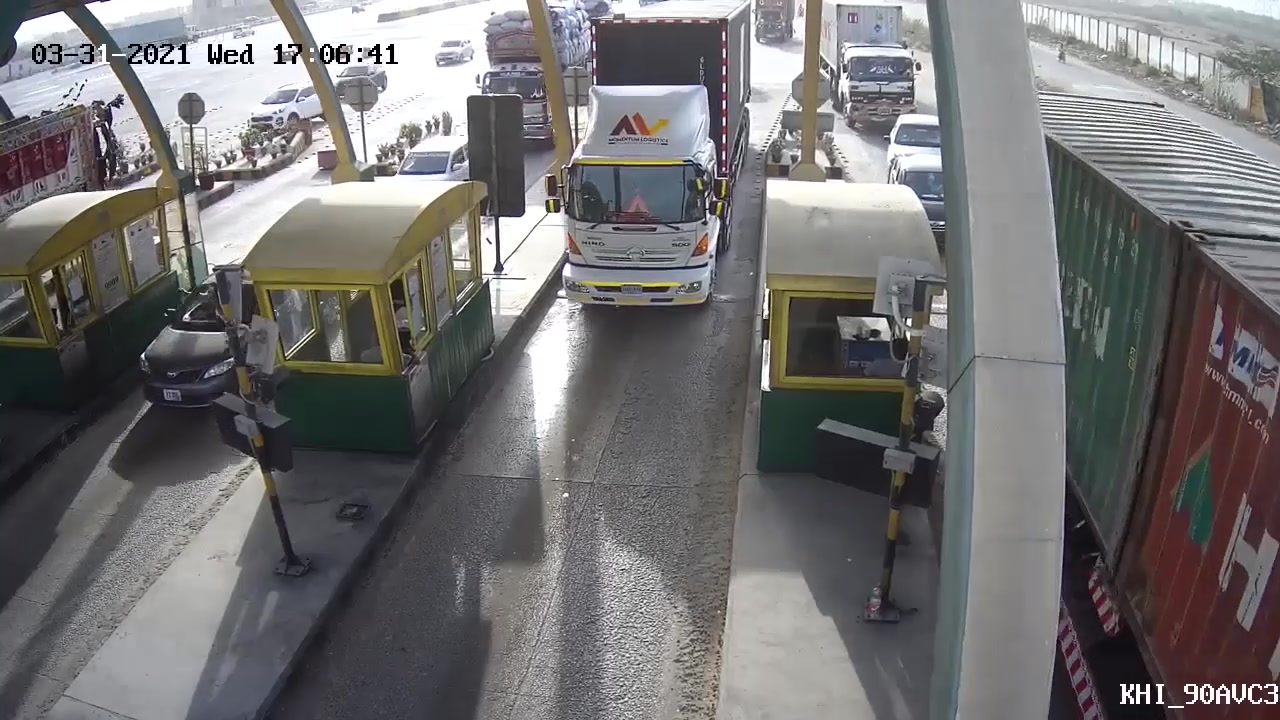F6: (556, 1, 756, 326)
